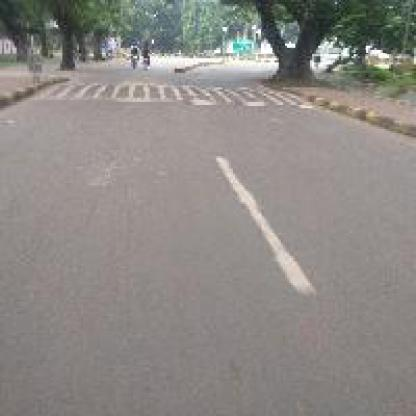Speed Bump: (32, 79, 320, 110)
